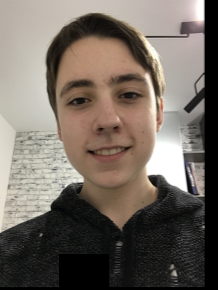without_mask: (51, 71, 159, 189)
